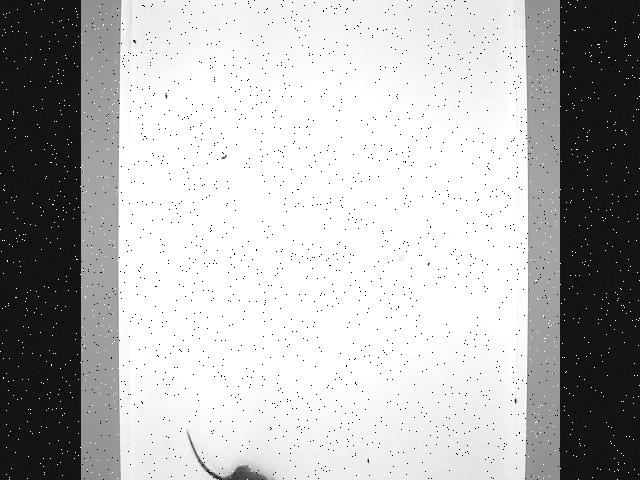Tikus: (184, 429, 283, 480)
